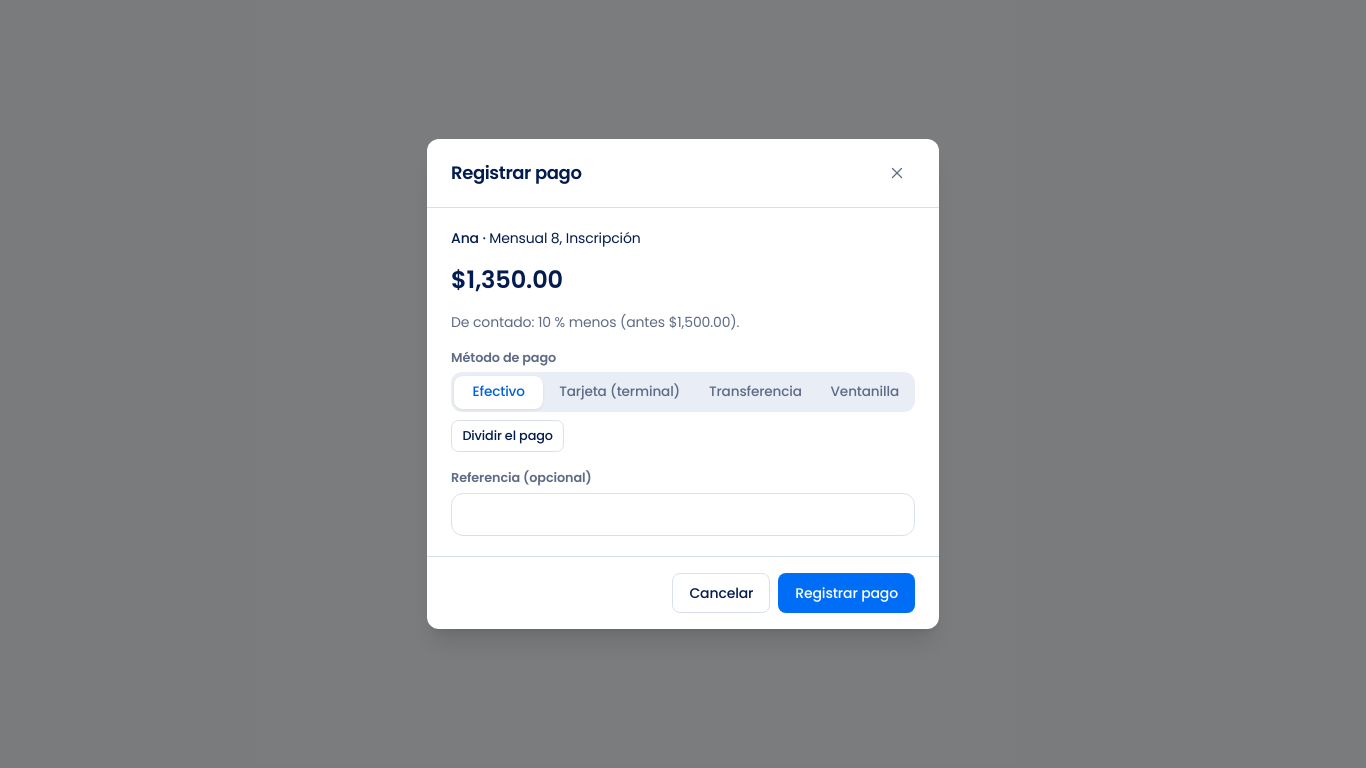
registrar pago de contado › en efectivo o transferencia muestra el precio de contado; con tarjeta, el de siempre
Expected: the text "$1,350.00" is shown, 451,263 -> 563,296
Expected: the text "De contado: 10 % menos (antes $1,500.00)." is shown, 451,312 -> 739,332
Click the button "Tarjeta (terminal)".
click(620, 392)  # box 546,376 -> 693,409
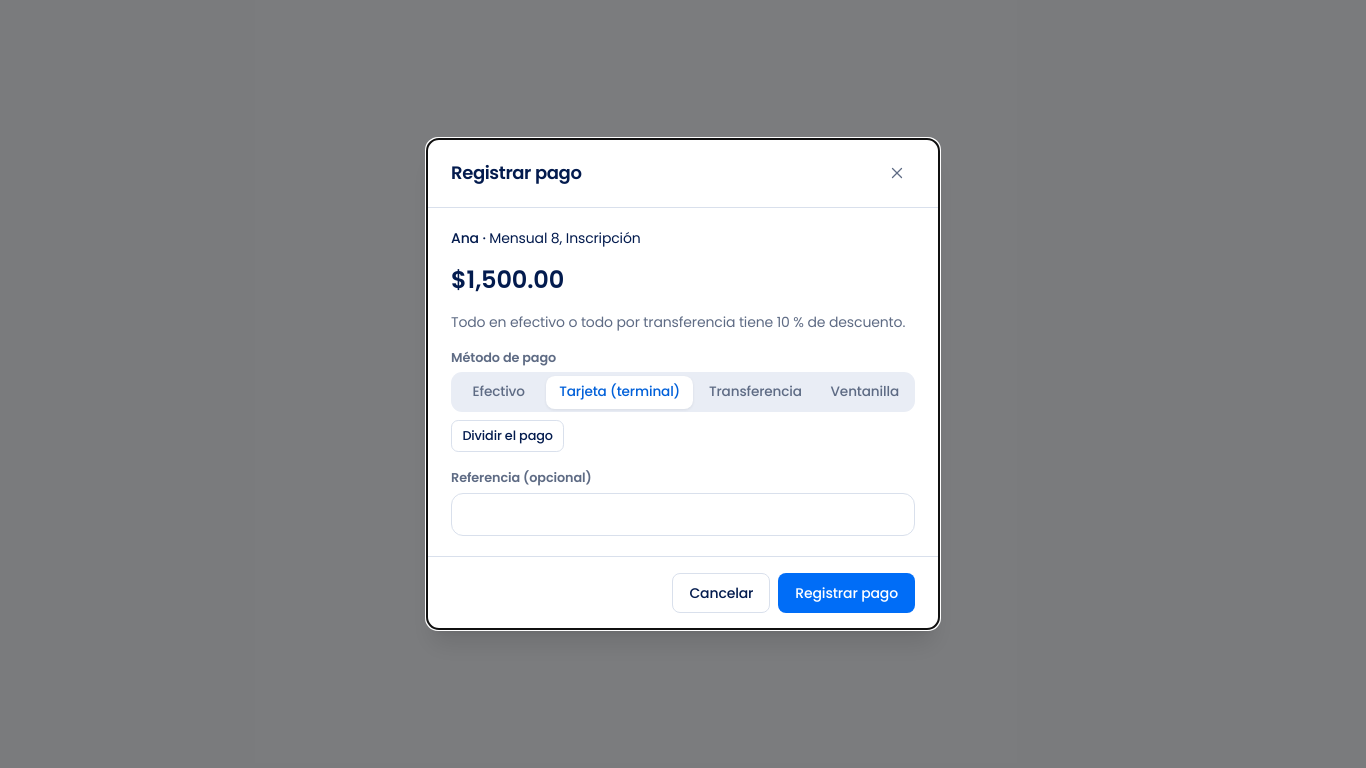
Expected: the text "$1,500.00" is shown, 451,263 -> 564,296
